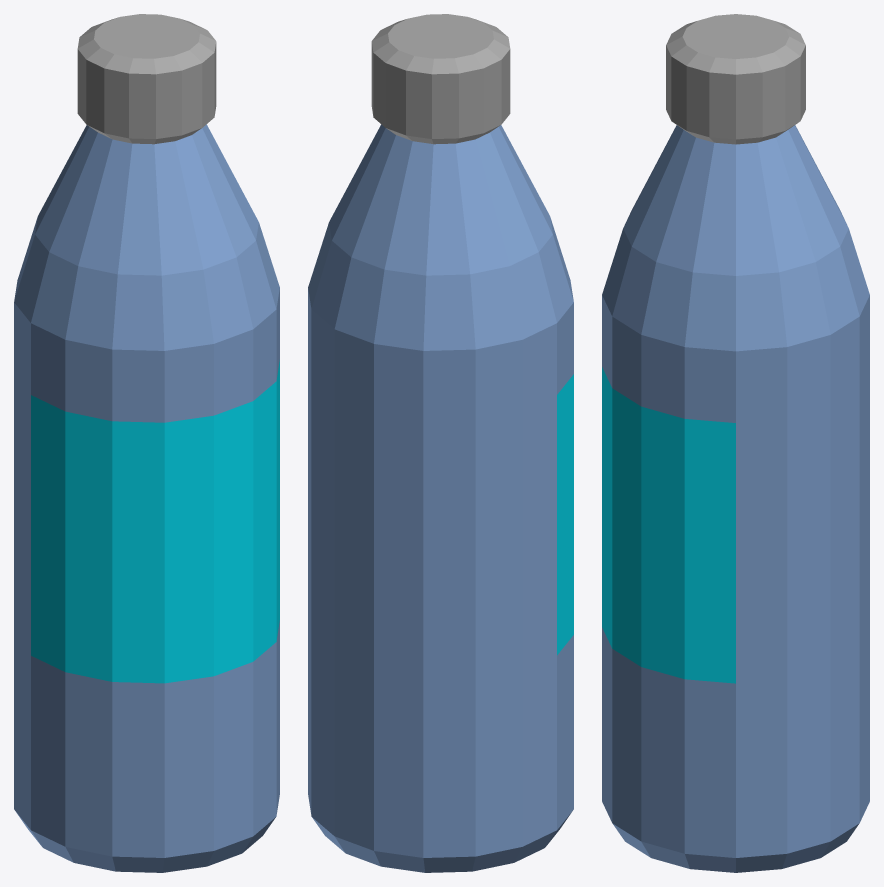
The model's file is WaterBottle.fbx.
3 views of the same model, side by side, from view 1: azimuth 30°, elevation 25°; view 2: azimuth 150°, elevation 25°; view 3: azimuth 270°, elevation 25° (orthographic).
Visible parts, largest first — view 1: Cylinder; view 2: Cylinder; view 3: Cylinder.
Boxes of the visible parts, x1,y1,x2,y2 form: Cylinder: (14,14,279,872); Cylinder: (308,14,573,872); Cylinder: (602,14,869,872).
Size of the model in its own units: 6.35 by 20.54 by 6.35.
